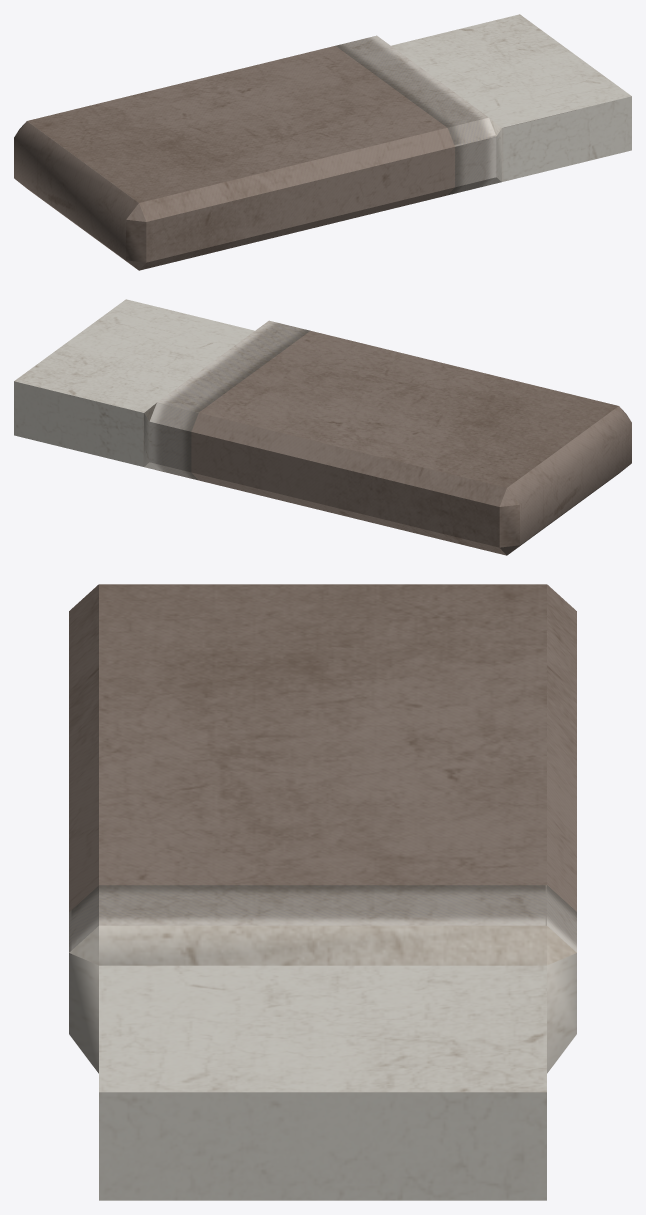
Rendered from small_matress.fbx.
3 views of the same model, one above another, from view 1: azimuth 30°, elevation 25°; view 2: azimuth 150°, elevation 25°; view 3: azimuth 270°, elevation 25° (orthographic). The views are drawn at different scales.
Visible parts, largest first — view 1: small_matress.001; view 2: small_matress.001; view 3: small_matress.001.
Boxes of the visible parts, bbox=[...] form: small_matress.001: bbox=[14, 14, 631, 270]; small_matress.001: bbox=[14, 299, 631, 555]; small_matress.001: bbox=[69, 584, 576, 1200].
Bounding box in the file's own units: 2.17 × 0.2771 × 0.9422.
1 material, 1 textured.
